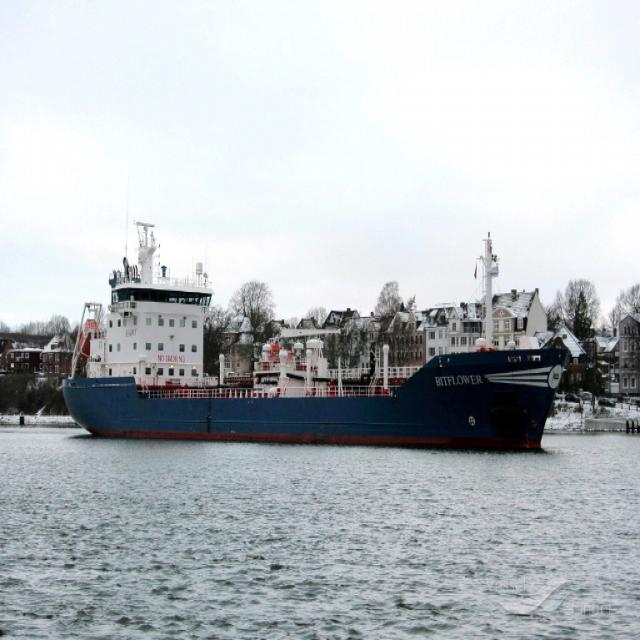OCR: (428, 368, 485, 391)
